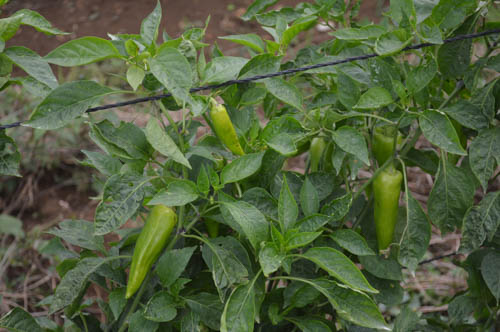ChiliPepper: (127, 207, 176, 298), (370, 173, 404, 255), (211, 106, 244, 160)
